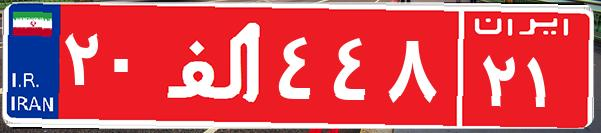0: (110, 28, 158, 105)
1: (525, 38, 570, 115)
2: (57, 26, 110, 107), (475, 38, 525, 113)
4: (273, 28, 330, 110), (330, 28, 385, 110)
8: (385, 28, 445, 110)
الف: (158, 15, 273, 115)
